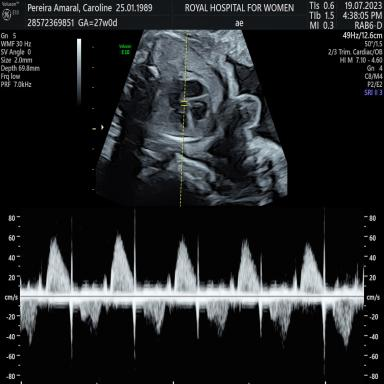Ultrasound-Waves: (25, 212, 362, 384)
